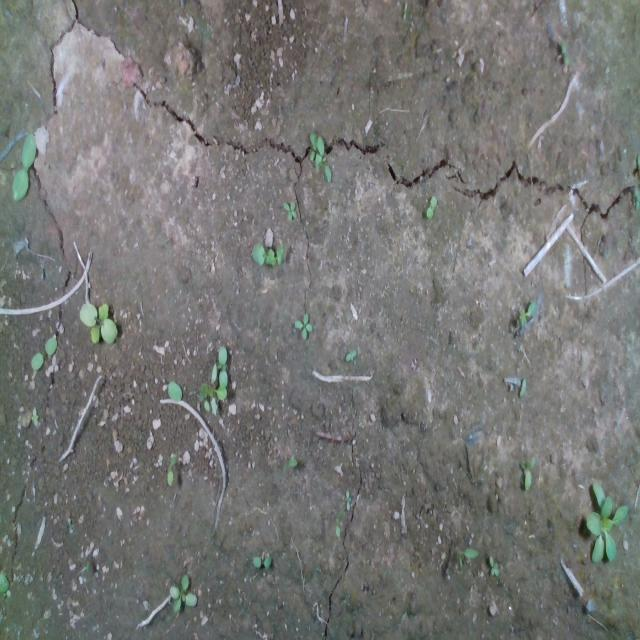weed: (10, 130, 36, 201), (79, 300, 117, 346), (168, 572, 198, 612), (29, 334, 57, 372), (292, 312, 313, 340), (281, 200, 297, 222), (252, 554, 272, 570), (426, 193, 438, 219), (488, 554, 499, 576)
